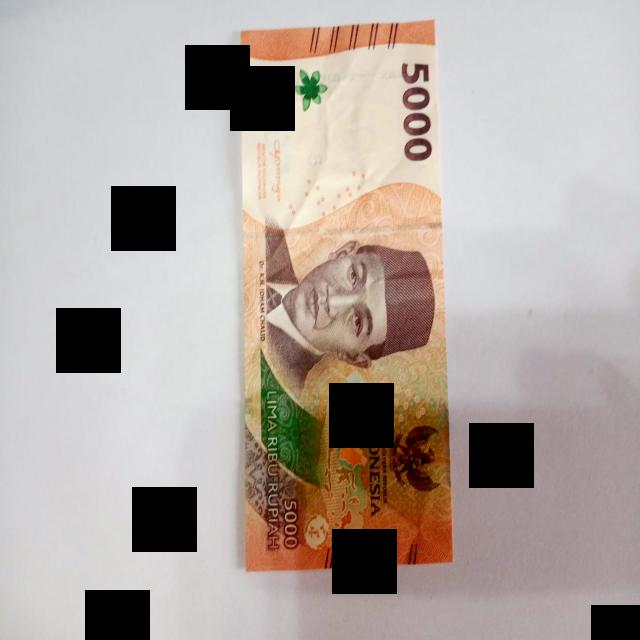lima ribu rupiah: (239, 20, 456, 575)
